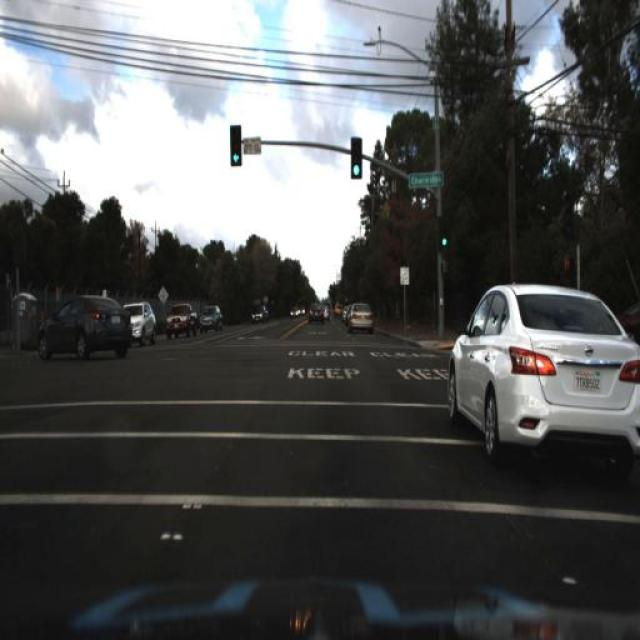car: (436, 273, 640, 479), (37, 295, 127, 363), (161, 294, 204, 344), (130, 298, 160, 342), (341, 306, 378, 340), (196, 299, 229, 336), (305, 302, 326, 327), (248, 302, 268, 326)
trafficLight-Green: (226, 129, 243, 170)
trafficLight-GreenLeft: (347, 146, 365, 190), (431, 228, 452, 261)
